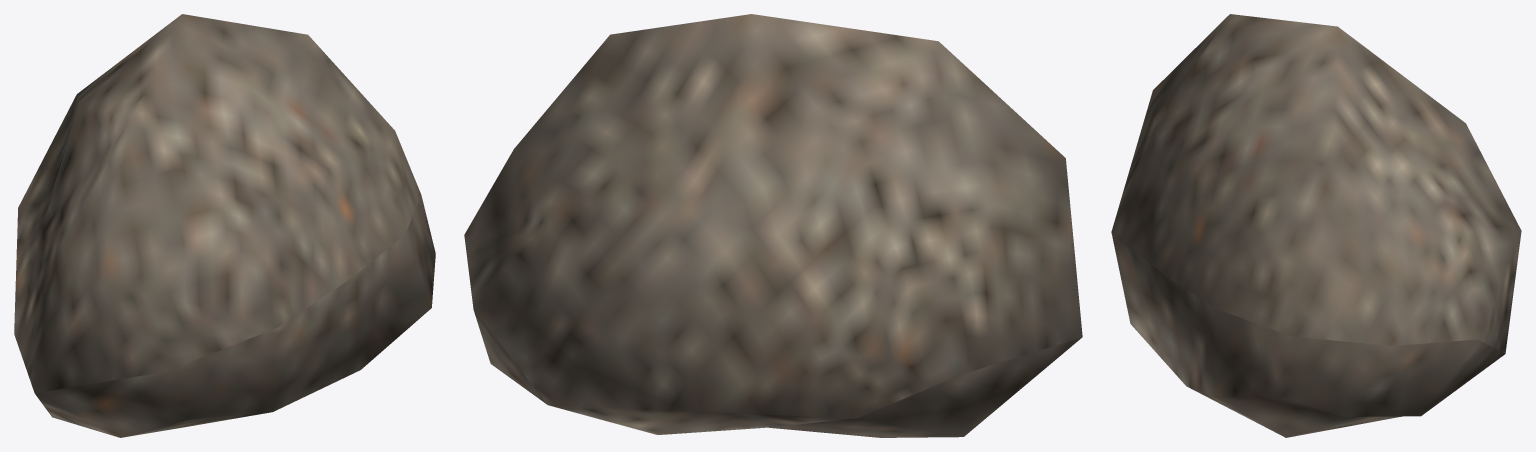
The model's file is rock_Big_002.fbx.
3 renders of one model, left to right at view 1: azimuth 30°, elevation 25°; view 2: azimuth 150°, elevation 25°; view 3: azimuth 270°, elevation 25°, orthographic. The views are drawn at different scales.
Visible parts, largest first — view 1: rock_Big.002; view 2: rock_Big.002; view 3: rock_Big.002.
Boxes of the visible parts, <box> form: rock_Big.002: <box>14,14,435,437</box>; rock_Big.002: <box>464,14,1082,437</box>; rock_Big.002: <box>1111,14,1521,437</box>.
Size of the model in its own units: 260 by 199 by 217.
1 material, 1 textured.
